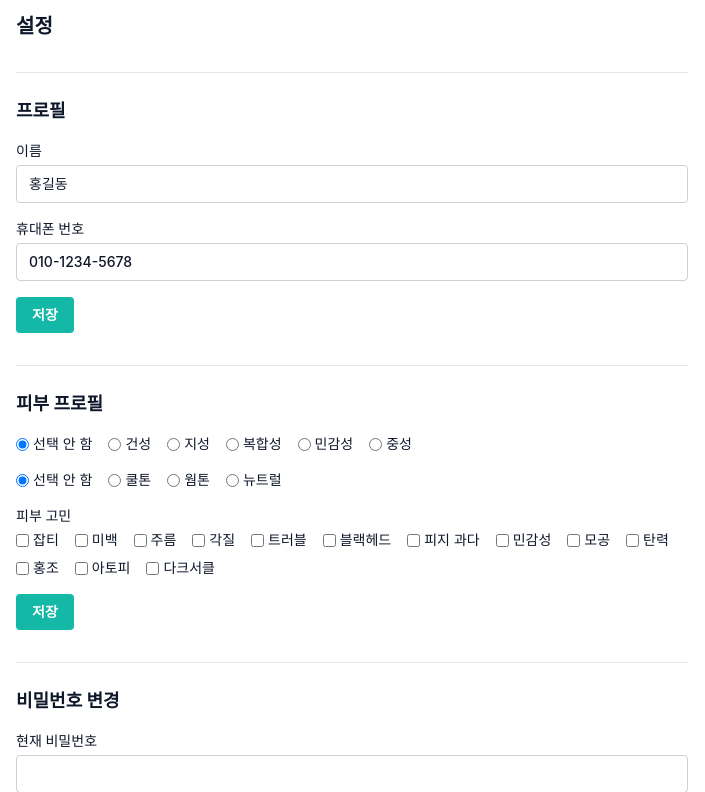
Scenario: 프로필을 저장하면 PATCH하고 안내한다
This screenshot has width=705, height=792.
Replace the text in the field labelled "이름" with "김하늘" at coordinates (352, 184), box [16,165,688,203]
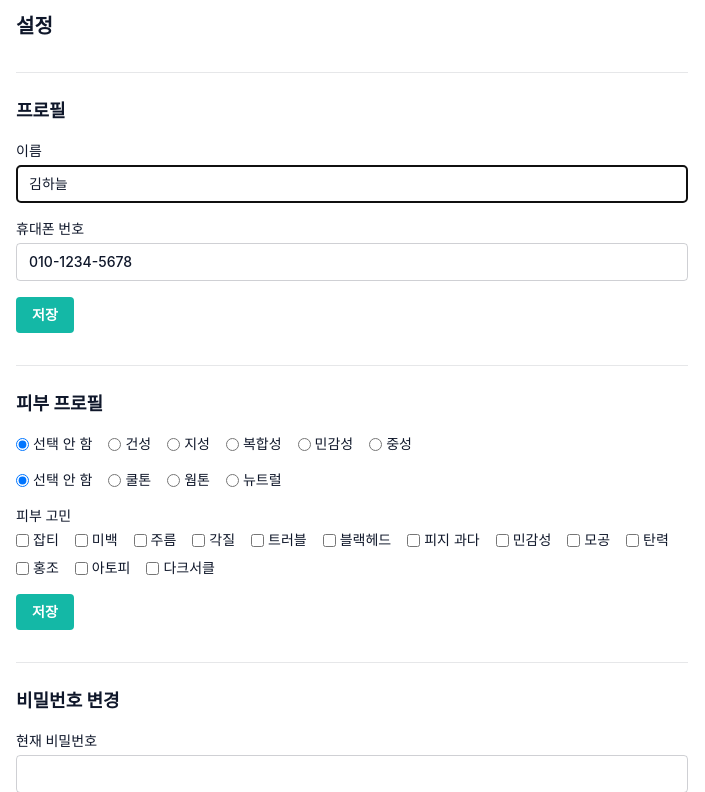
Replace the text in the field labelled "휴대폰 번호" with "010-9999-8888" at coordinates (352, 262), box [16,243,688,281]
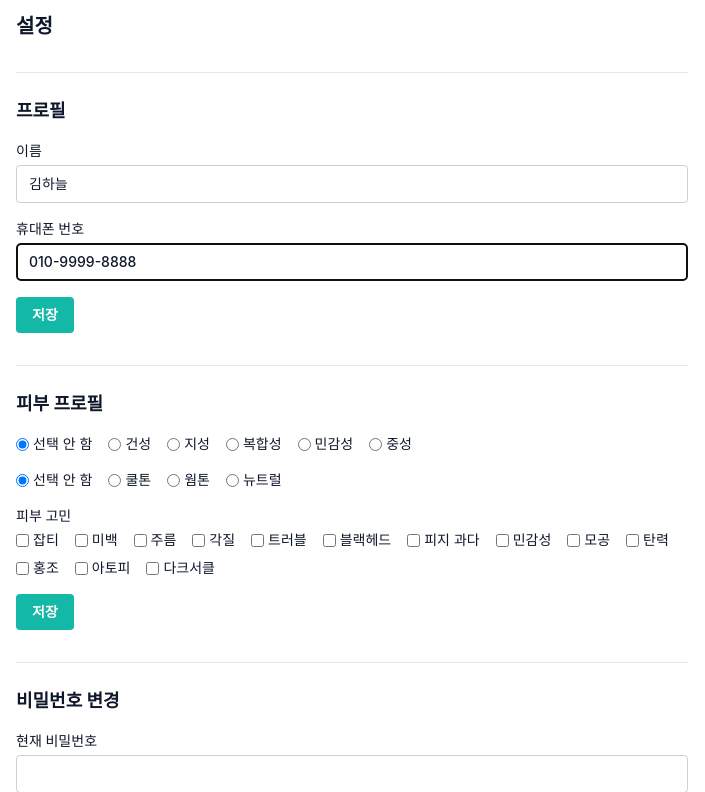
Click the button "저장" below "휴대폰 번호".
click(45, 315)  # box [16,297,74,333]
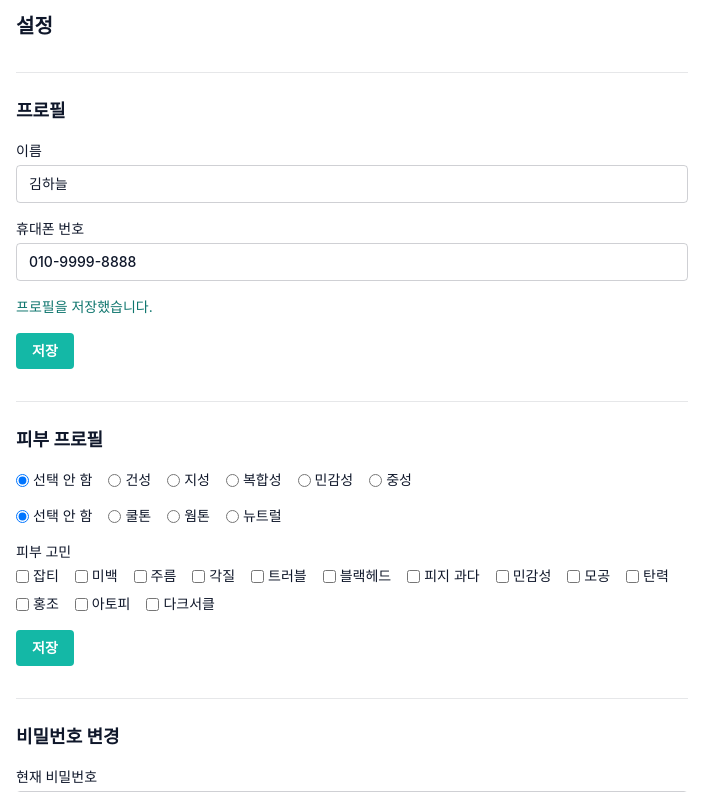
Expected: the message reads "프로필을 저장했습니다.", [16,298,153,315]
Type "!" into the field labelled "이름".
click(352, 184); type("!")  # box [16,165,688,203]
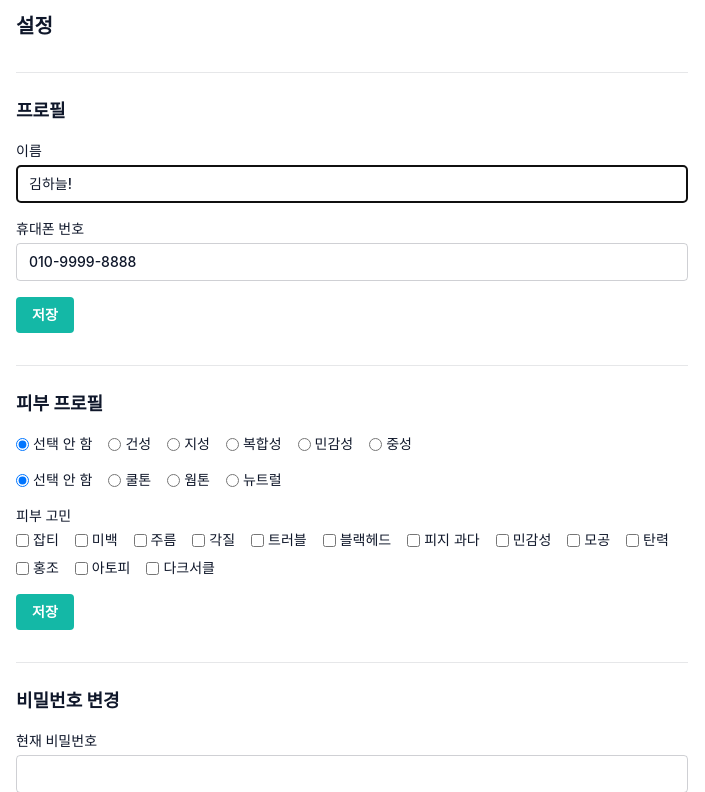
Expected: the message "프로필을 저장했습니다." is gone
